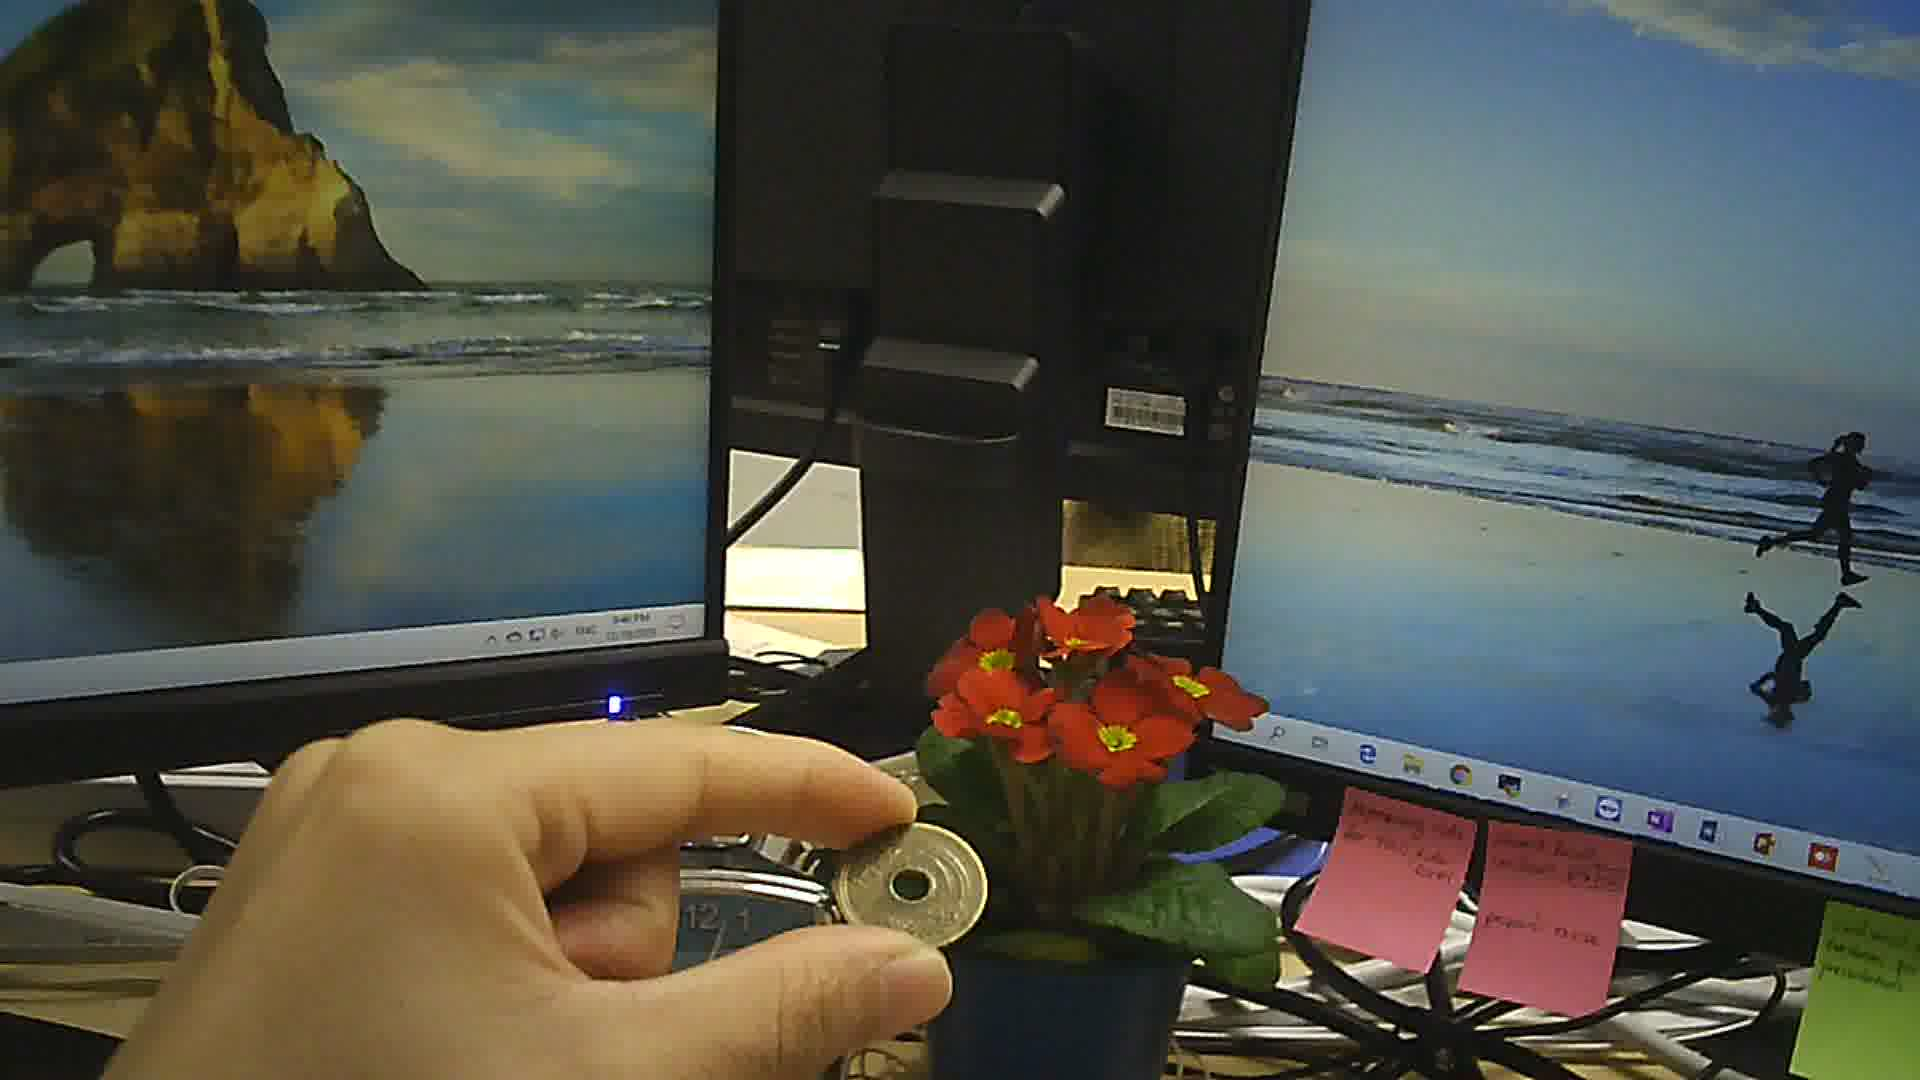5 Yen: (833, 803, 986, 960)
